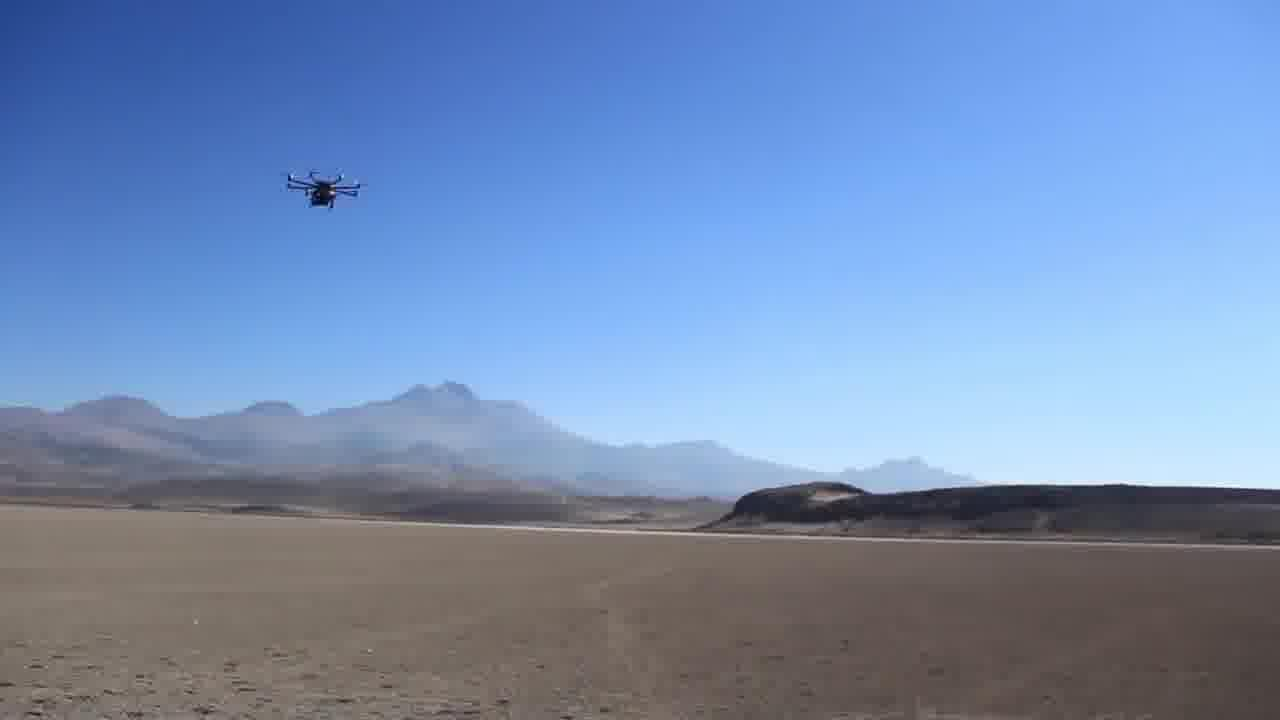drone: (280, 163, 369, 215)
